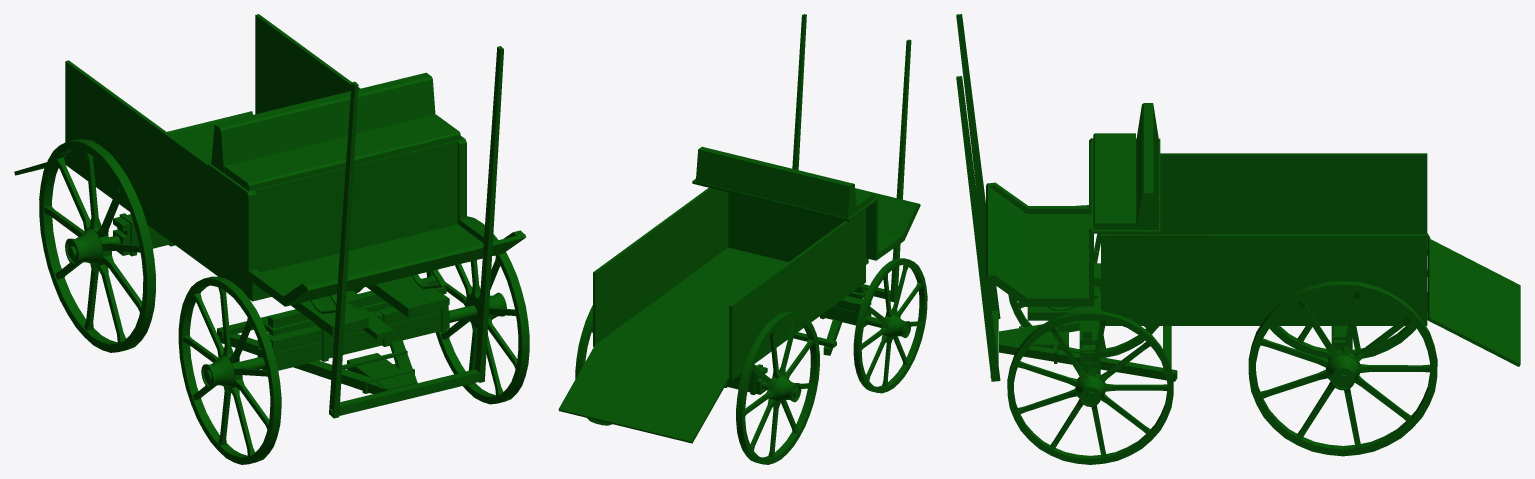
The model's file is cartload2.FBX.
3 renders of one model, left to right at view 1: azimuth 30°, elevation 25°; view 2: azimuth 150°, elevation 25°; view 3: azimuth 270°, elevation 25°, orthographic. The views are drawn at different scales.
Parts seen in each view (by area): view 1: SM_cartload02_0; view 2: SM_cartload02_0; view 3: SM_cartload02_0.
Boxes of the visible parts, bbox=[...] form: SM_cartload02_0: bbox=[14, 14, 529, 464]; SM_cartload02_0: bbox=[558, 14, 927, 464]; SM_cartload02_0: bbox=[956, 14, 1520, 464].
Size of the model in its own units: 170 by 323 by 230.
